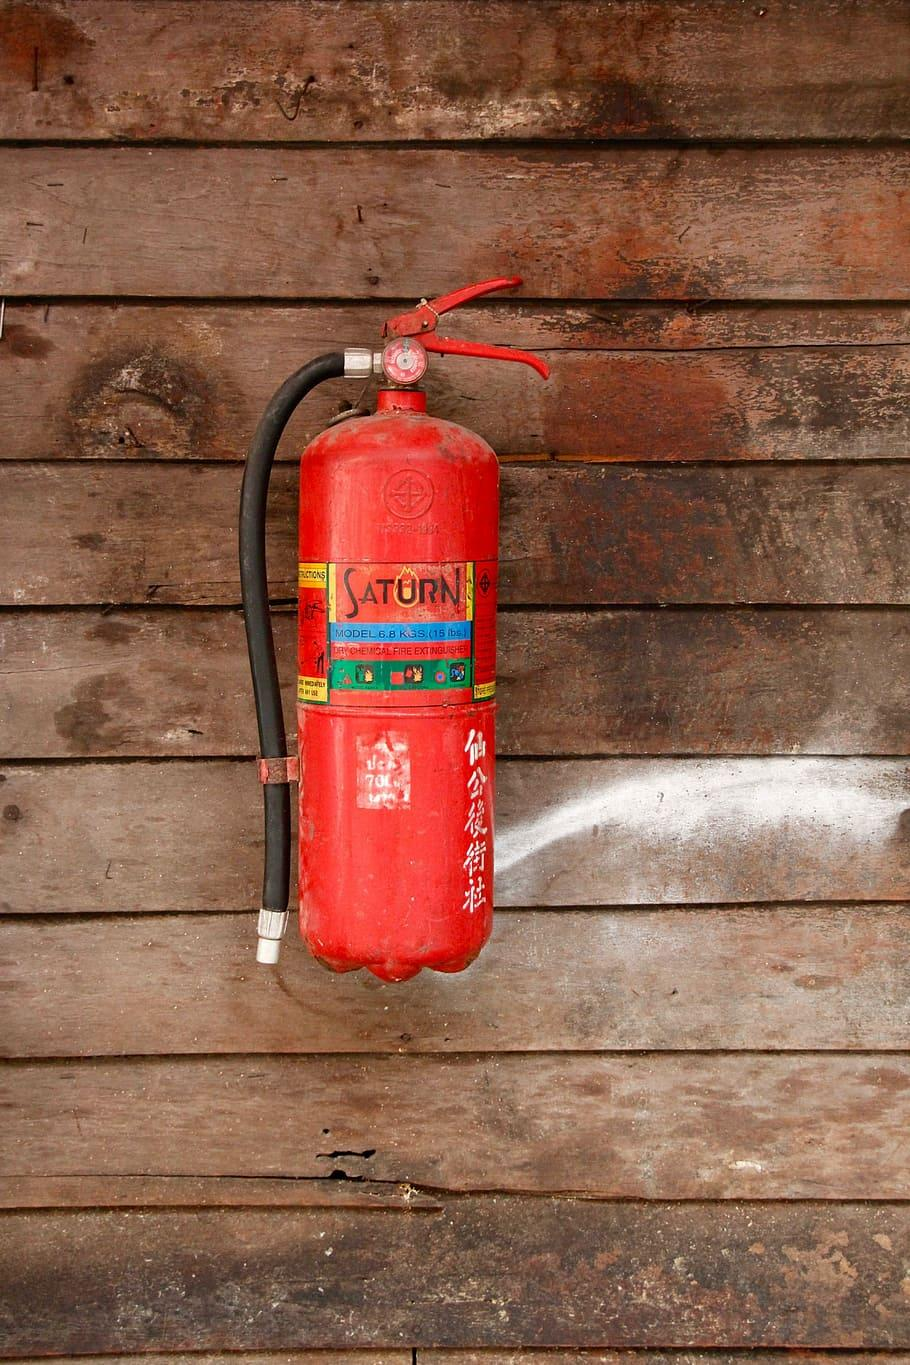Fire Extinguisher: (223, 263, 560, 996)
